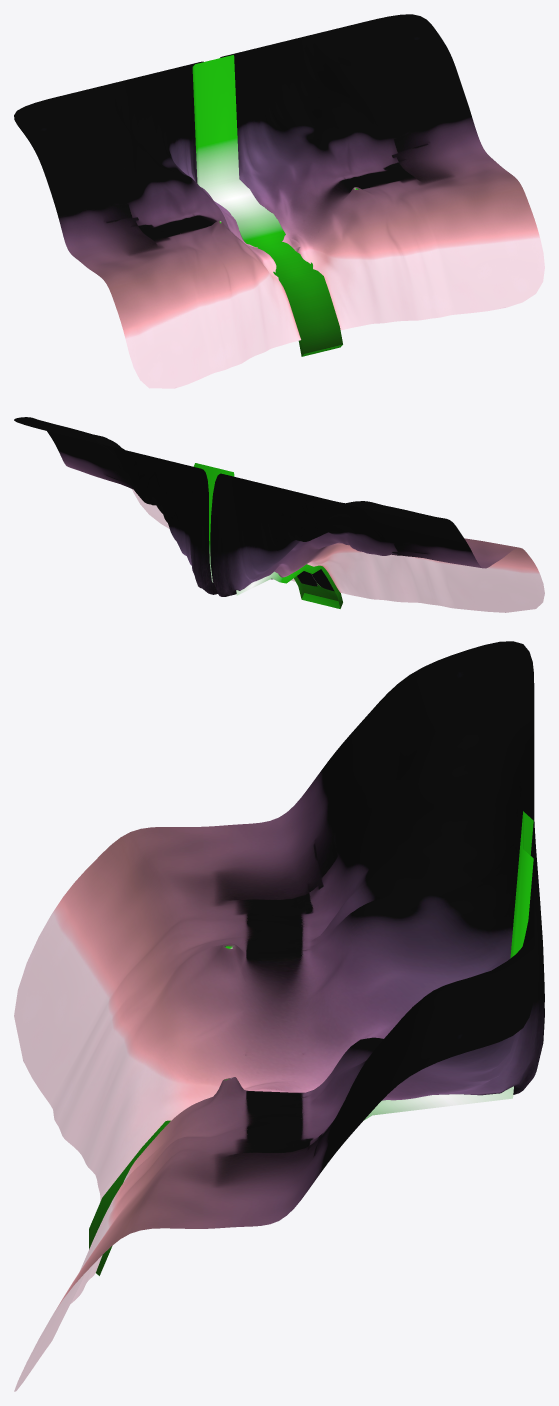
File: terrainBase.glb
3 views of the same model, one above another, from view 1: azimuth 30°, elevation 25°; view 2: azimuth 150°, elevation 25°; view 3: azimuth 270°, elevation 25° (orthographic). The views are drawn at different scales.
Parts seen in each view (by area): view 1: floor2.001, floor.003, waterfall.001; view 2: floor.003, floor2.001, waterfall.001; view 3: floor.003, floor2.001, waterfall.001.
Part boxes in pixels (<box>): floor2.001: <box>220,14,544,330</box>; floor.003: <box>14,61,301,388</box>; waterfall.001: <box>192,55,342,356</box>; floor.003: <box>210,473,544,612</box>; floor2.001: <box>14,417,317,594</box>; waterfall.001: <box>193,463,342,608</box>; floor.003: <box>14,641,544,1201</box>; floor2.001: <box>14,844,544,1391</box>; waterfall.001: <box>89,811,533,1275</box>.
Size of the model in its own units: 36.02 by 17.8 by 20.04.
Materials: 2 (2 with a texture image).
